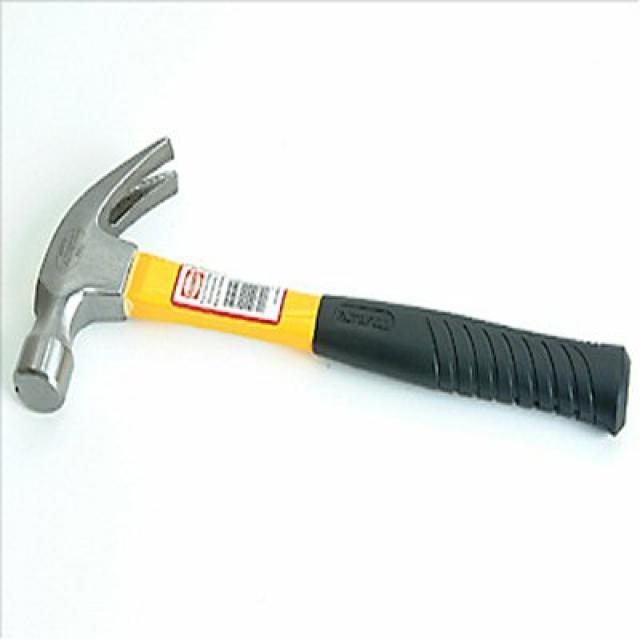hammer: (0, 124, 639, 476)
